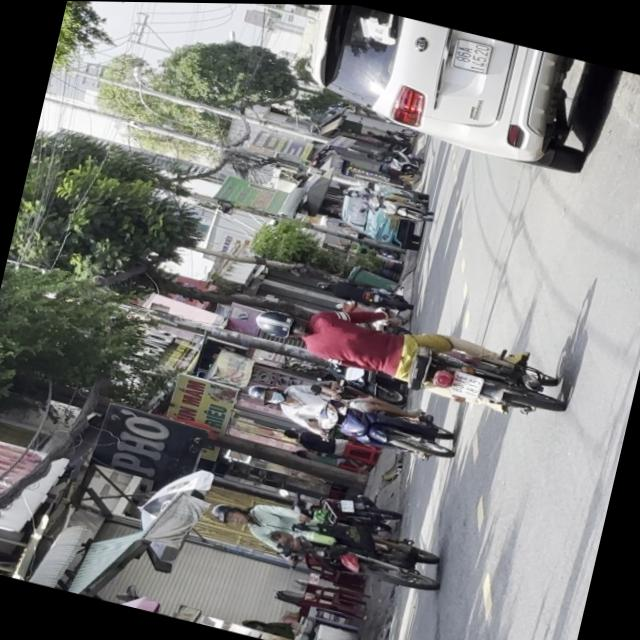helmet: (250, 305, 309, 344), (207, 500, 250, 528), (243, 381, 285, 407)
licenseplate: (243, 282, 572, 430), (200, 486, 445, 598), (237, 366, 460, 469)
nohelmet: (446, 369, 482, 399)
